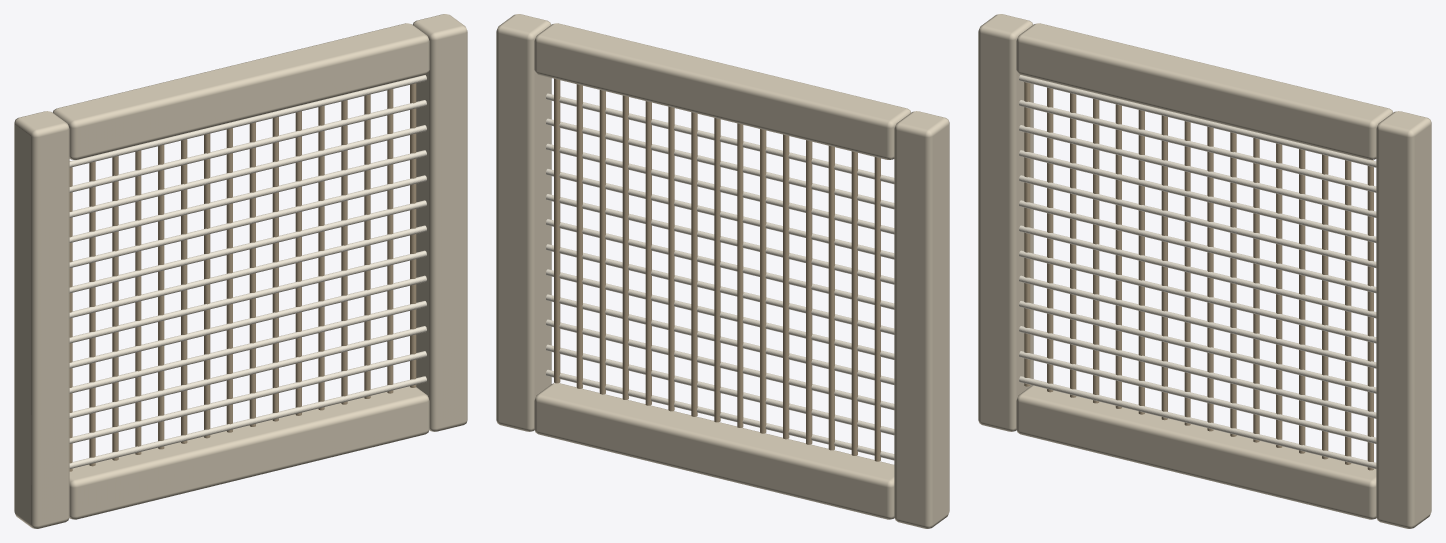
Rendered from museum-conservation-and-art-restoration-museum-conserv-824c6742__31889.glb.
3 views of the same model, side by side, from view 1: azimuth 30°, elevation 25°; view 2: azimuth 150°, elevation 25°; view 3: azimuth 330°, elevation 25° (orthographic).
Visible parts, largest first — view 1: museum-conservation-and-art-restoration-canvas-weave-referen (×3); view 2: museum-conservation-and-art-restoration-canvas-weave-referen (×3); view 3: museum-conservation-and-art-restoration-canvas-weave-referen (×3).
Boxes of the visible parts, bbox=[...] form: museum-conservation-and-art-restoration-canvas-weave-referen (×3): bbox=[14, 14, 467, 528]; museum-conservation-and-art-restoration-canvas-weave-referen (×3): bbox=[496, 14, 949, 528]; museum-conservation-and-art-restoration-canvas-weave-referen (×3): bbox=[978, 14, 1431, 528].
Bounding box in the file's own units: 0.4 × 0.35 × 0.035.
